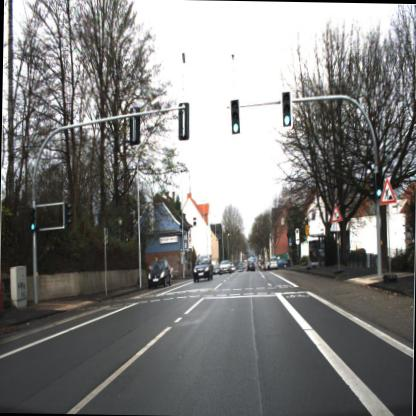danger: (373, 172, 399, 209), (329, 200, 344, 224)
